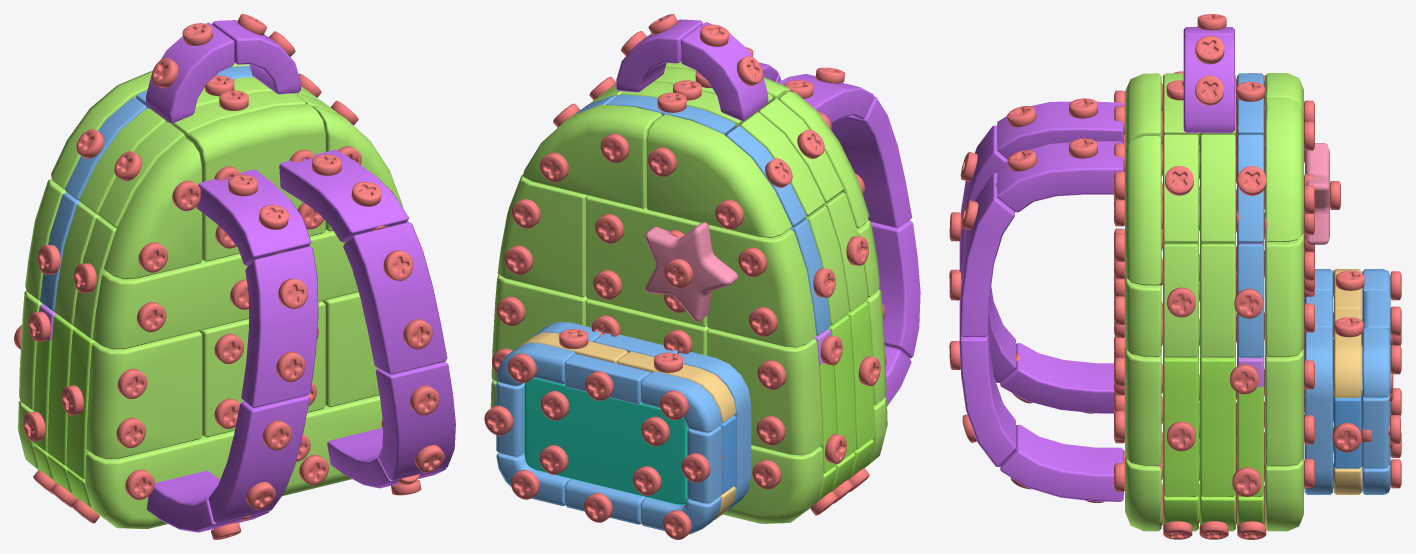
Rendered from BackPack_md214.fbx.
3 views of the same model, side by side, from view 1: azimuth 30°, elevation 25°; view 2: azimuth 150°, elevation 25°; view 3: azimuth 270°, elevation 25° (orthographic). The views are drawn at different scales.
Visible parts, largest first — view 1: LV1_Backpack_25, LV3_Backpack_10, LV1_Backpack_07, LV1_Backpack_04, LV2_Backpack_02, LV1_Backpack_22, LV1_Backpack_05, LV3_Backpack_12, LV1_Backpack_06, LV1_Backpack_09, LV1_Backpack_03, LV1_Backpack_24 (+54 smaller); view 2: LV1_Backpack_14, LV1_Backpack_21, LV2_Backpack_08, LV2_Backpack_01, LV4_Backpack_11, LV1_Backpack_26, LV3_Backpack_07, LV1_Backpack_04, LV1_Backpack_05, LV1_Backpack_11, LV6_Backpack_02, LV1_Backpack_01 (+75 smaller); view 3: LV1_Backpack_08, LV1_Backpack_09, LV2_Backpack_01, LV1_Backpack_23, LV1_Backpack_10, LV1_Backpack_07, LV8_Backpack_01, LV1_Backpack_06, LV1_Backpack_26, LV4_Backpack_04, LV4_Backpack_12, LV1_Backpack_03 (+43 smaller).
Boxes of the visible parts, box(x1,y1,x2,y2) form: LV1_Backpack_25: box(86, 331, 202, 459); LV3_Backpack_10: box(92, 254, 248, 349); LV1_Backpack_07: box(343, 222, 447, 374); LV1_Backpack_04: box(241, 246, 318, 408); LV2_Backpack_02: box(187, 104, 325, 261); LV1_Backpack_22: box(104, 137, 202, 279); LV1_Backpack_05: box(208, 395, 309, 523); LV3_Backpack_12: box(85, 431, 234, 528); LV1_Backpack_06: box(375, 362, 455, 480); LV1_Backpack_09: box(279, 149, 408, 242); LV1_Backpack_03: box(196, 169, 311, 266); LV1_Backpack_24: box(322, 292, 379, 407); LV1_Backpack_14: box(524, 377, 688, 504); LV1_Backpack_21: box(646, 114, 791, 238); LV2_Backpack_08: box(707, 225, 816, 347); LV2_Backpack_01: box(523, 104, 662, 209); LV4_Backpack_11: box(707, 329, 822, 455); LV1_Backpack_26: box(497, 174, 588, 297); LV3_Backpack_07: box(585, 196, 709, 327); LV1_Backpack_04: box(831, 96, 911, 228); LV1_Backpack_05: box(871, 220, 920, 358); LV1_Backpack_11: box(645, 222, 738, 321); LV6_Backpack_02: box(722, 445, 823, 523); LV1_Backpack_01: box(681, 22, 768, 121); LV1_Backpack_08: box(1000, 424, 1123, 501); LV1_Backpack_09: box(997, 141, 1123, 212); LV2_Backpack_01: box(1265, 98, 1303, 242); LV1_Backpack_23: box(1125, 136, 1161, 285); LV1_Backpack_10: box(1000, 343, 1114, 413); LV1_Backpack_07: box(959, 173, 1014, 337); LV8_Backpack_01: box(1200, 356, 1235, 496); LV1_Backpack_06: box(959, 325, 1015, 466); LV1_Backpack_26: box(1265, 233, 1303, 357); LV4_Backpack_04: box(1163, 356, 1198, 496); LV4_Backpack_12: box(1265, 349, 1303, 466); LV1_Backpack_03: box(997, 101, 1123, 159).
Bounding box in the file's own units: 444 × 570 × 513.
